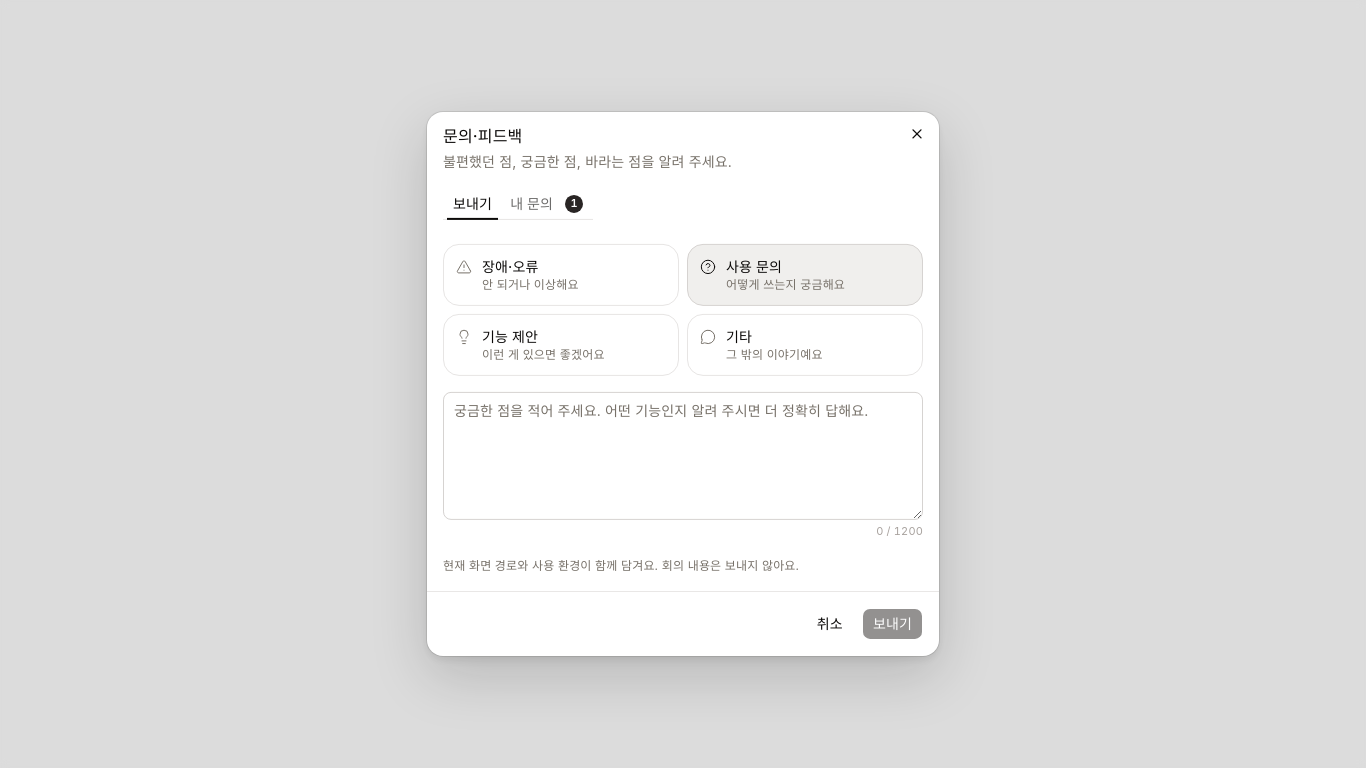
it: FeedbackDialog 읽음 처리 실패 › 되돌린 숫자가 곧바로 다시 부르지 않고 창을 다시 열 때 한 번 더 시도한다
Click the tab "내 문의 1".
click(547, 203)  # box [503,191,590,215]
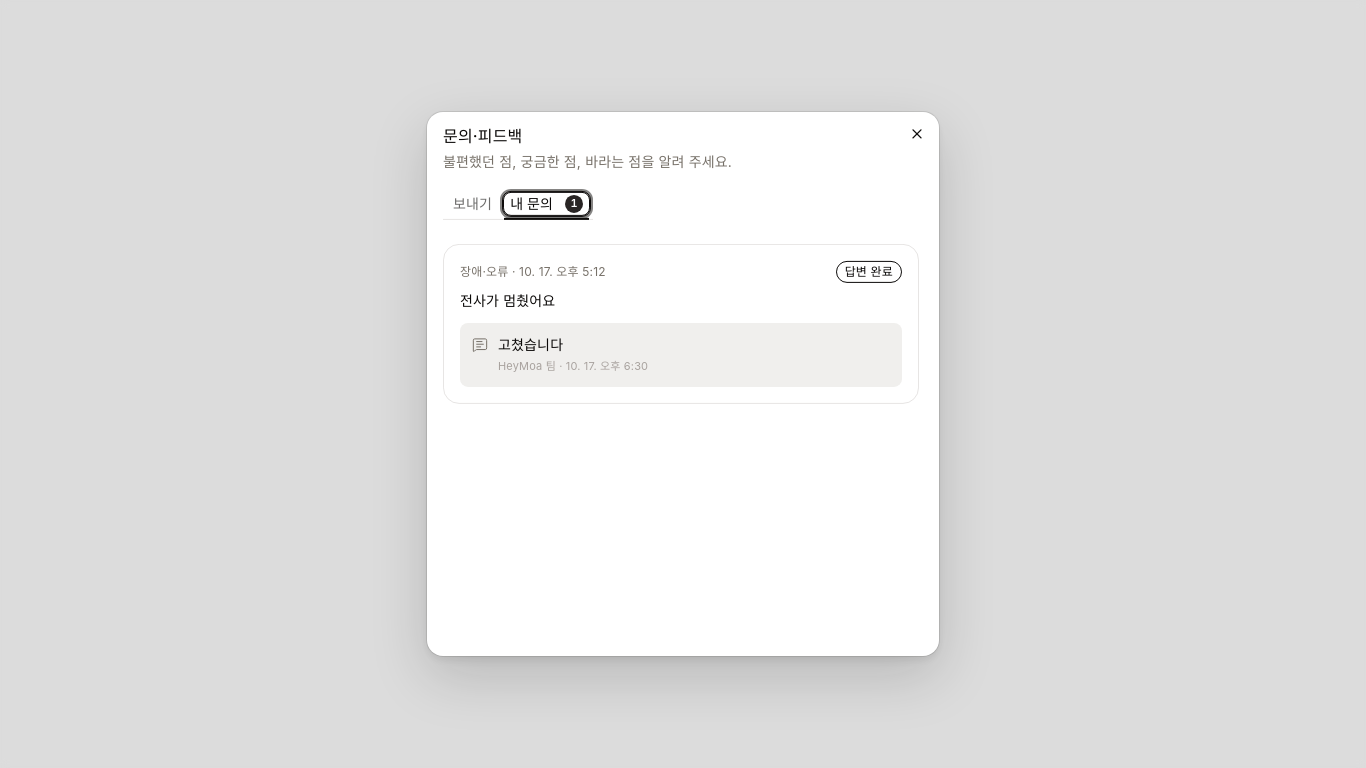
Check: the number of elements named "새 답변 1개" is 1, box [565,194,583,212]
